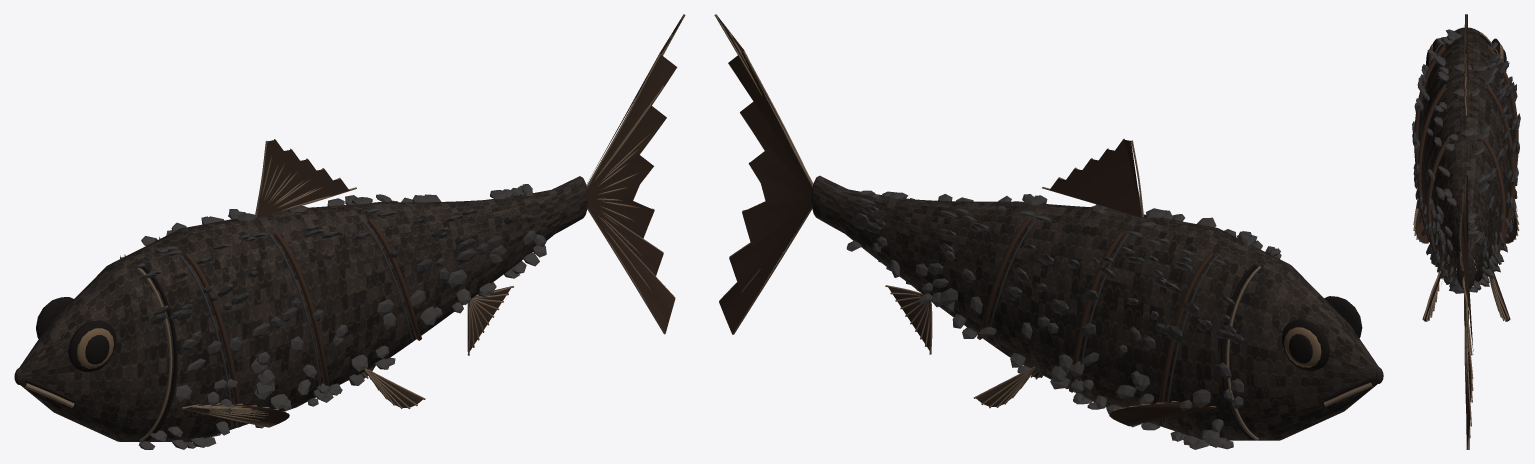
Rendered from burnt_minnow.glb.
3 views of the same model, side by side, from view 1: azimuth 30°, elevation 25°; view 2: azimuth 150°, elevation 25°; view 3: azimuth 270°, elevation 25° (orthographic). The views are drawn at different scales.
Parts seen in each view (by area): view 1: scaled skin with continuous back and belly, raised char plates, ribbed fin membrane, fin rays and lip rim, mouth, gill creases and pupils, exposed cooked muscle, iris ring; view 2: scaled skin with continuous back and belly, ribbed fin membrane, raised char plates, fin rays and lip rim, mouth, gill creases and pupils, exposed cooked muscle, iris ring; view 3: scaled skin with continuous back and belly, raised char plates, exposed cooked muscle, ribbed fin membrane, fin rays and lip rim, mouth, gill creases and pupils.
Boxes of the visible parts, left/top/right/bottom form: scaled skin with continuous back and belly: left=14, top=176, right=588, bottom=441; raised char plates: left=136, top=184, right=546, bottom=449; ribbed fin membrane: left=183, top=14, right=685, bottom=427; fin rays and lip rim: left=25, top=14, right=684, bottom=441; mouth, gill creases and pupils: left=25, top=254, right=177, bottom=440; exposed cooked muscle: left=159, top=218, right=421, bottom=427; iris ring: left=77, top=328, right=113, bottom=368; scaled skin with continuous back and belly: left=811, top=175, right=1383, bottom=440; ribbed fin membrane: left=714, top=14, right=1215, bottom=425; raised char plates: left=846, top=190, right=1281, bottom=449; fin rays and lip rim: left=715, top=14, right=1372, bottom=440; mouth, gill creases and pupils: left=1220, top=264, right=1372, bottom=439; exposed cooked muscle: left=977, top=218, right=1214, bottom=426; iris ring: left=1284, top=327, right=1321, bottom=367; scaled skin with continuous back and belly: left=1418, top=27, right=1514, bottom=289; raised char plates: left=1412, top=29, right=1520, bottom=293; exposed cooked muscle: left=1414, top=46, right=1518, bottom=279; ribbed fin membrane: left=1415, top=14, right=1517, bottom=449; fin rays and lip rim: left=1413, top=15, right=1519, bottom=449; mouth, gill creases and pupils: left=1426, top=34, right=1506, bottom=71.
Bounding box in the file's own units: 0.2271 × 0.1023 × 0.0356.
7 materials, 1 textured.
